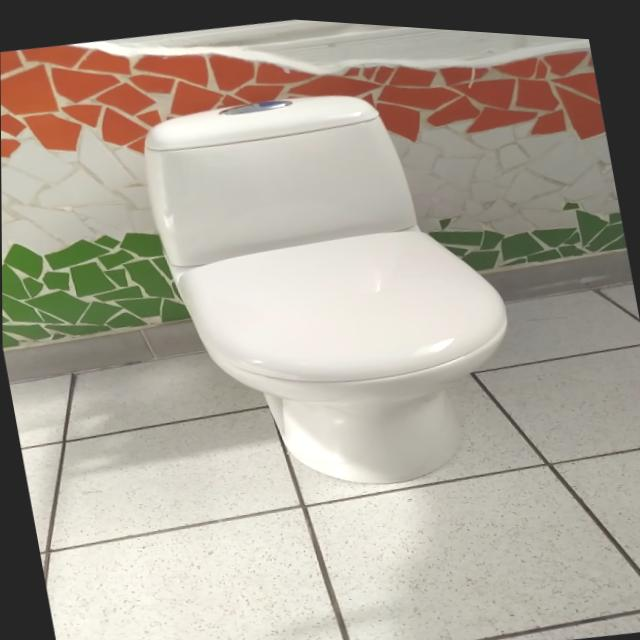toilet: (131, 54, 535, 519)
